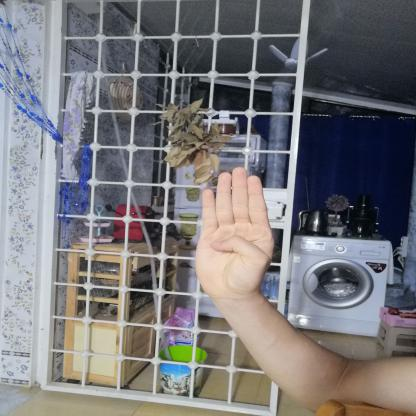KAAF: (184, 160, 286, 306)
